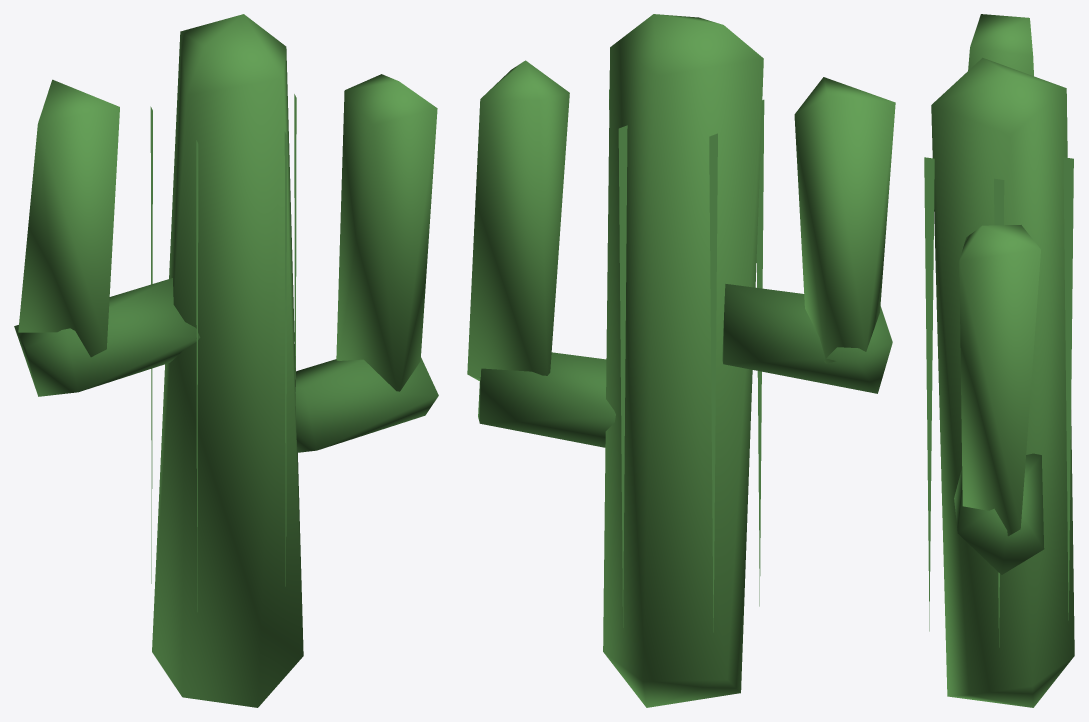
Rendered from prop_tree_desert_0_far.glb.
3 renders of one model, left to right at view 1: azimuth 30°, elevation 25°; view 2: azimuth 150°, elevation 25°; view 3: azimuth 270°, elevation 25°, orthographic. The views are drawn at different scales.
Visible parts, largest first — view 1: Stem, Arm1, Arm-1, Elbow-1, Elbow1, Rib3, Rib4, Rib2, Rib0; view 2: Stem, Arm1, Arm-1, Elbow-1, Elbow1, Rib1, Rib2, Rib3; view 3: Stem, Arm1, Elbow1, Arm-1, Rib4, Rib1, Rib0.
Part boxes in pixels (box(x1,y1,x2,y2)): Stem: box(152, 14, 303, 707); Arm1: box(336, 74, 437, 391); Arm-1: box(18, 79, 119, 357); Elbow-1: box(14, 278, 200, 396); Elbow1: box(295, 357, 438, 452); Rib3: box(196, 140, 198, 611); Rib4: box(284, 131, 286, 586); Rib2: box(150, 106, 152, 583); Rib0: box(294, 94, 296, 379); Stem: box(603, 14, 763, 707); Arm1: box(467, 60, 569, 381); Arm-1: box(794, 77, 895, 363); Elbow-1: box(722, 284, 892, 393); Elbow1: box(478, 352, 615, 447); Rib1: box(618, 125, 627, 627); Rib2: box(709, 133, 717, 632); Rib3: box(756, 99, 764, 606); Stem: box(931, 57, 1074, 707); Arm1: box(959, 225, 1040, 536); Elbow1: box(954, 453, 1044, 574); Arm-1: box(968, 14, 1033, 76); Rib4: box(924, 157, 934, 631); Rib1: box(1063, 157, 1073, 620); Rib0: box(994, 178, 1004, 647).
Bounding box in the file's own units: 2.54 × 4.03 × 0.8634.
